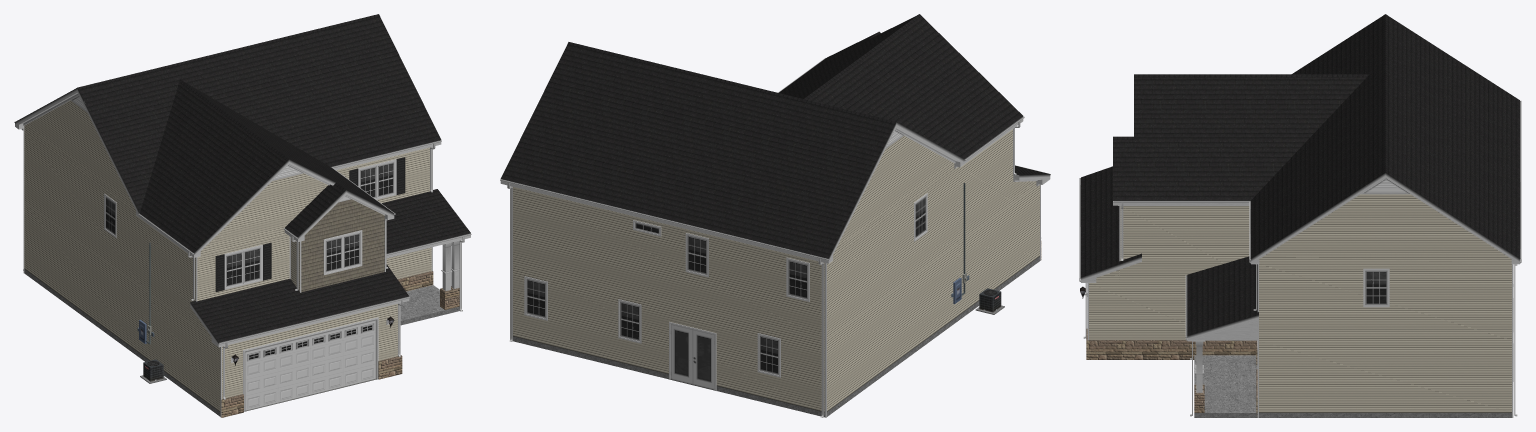
Rendered from house16_mirror1.fbx.
3 renders of one model, left to right at view 1: azimuth 30°, elevation 25°; view 2: azimuth 150°, elevation 25°; view 3: azimuth 270°, elevation 25°, orthographic. The views are drawn at different scales.
Visible parts, largest first — view 1: house16_mirror1_LOD0; view 2: house16_mirror1_LOD0; view 3: house16_mirror1_LOD0.
Boxes of the visible parts, <box> form: house16_mirror1_LOD0: <box>14,14,471,417</box>; house16_mirror1_LOD0: <box>500,14,1050,417</box>; house16_mirror1_LOD0: <box>1079,14,1521,417</box>.
Size of what is drawn, in the model's own units: 3.69 by 2.58 by 4.16.
